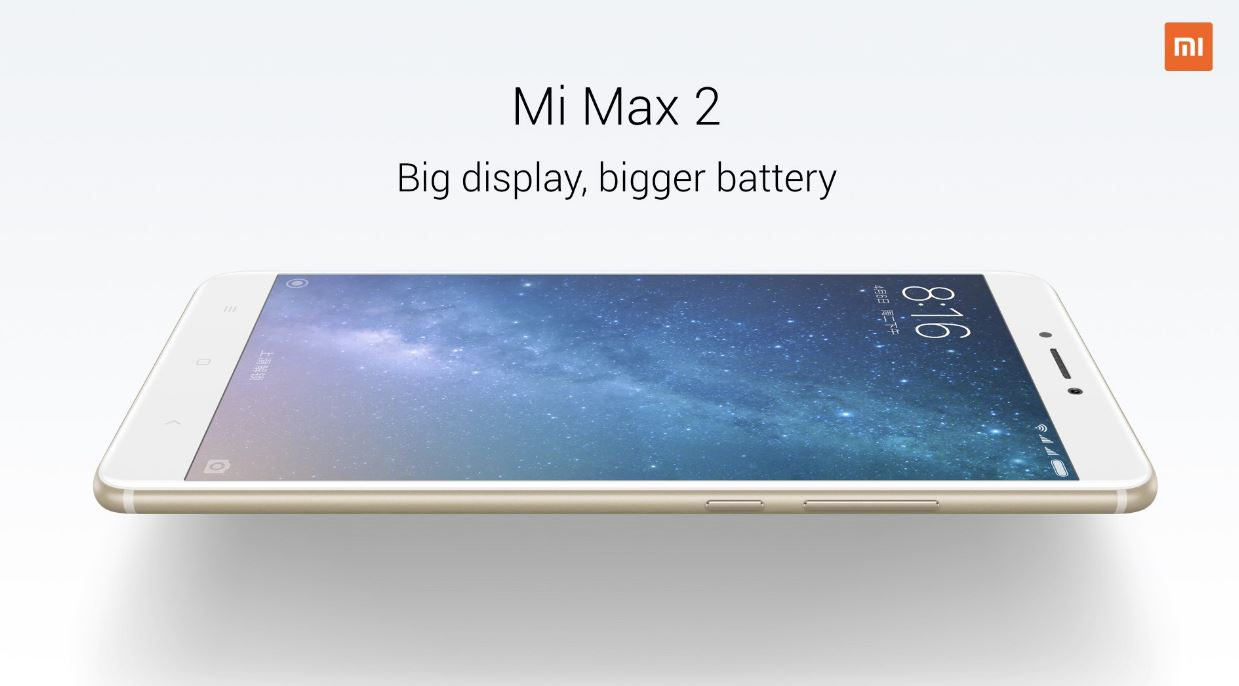smartphone: (91, 273, 1159, 517)
